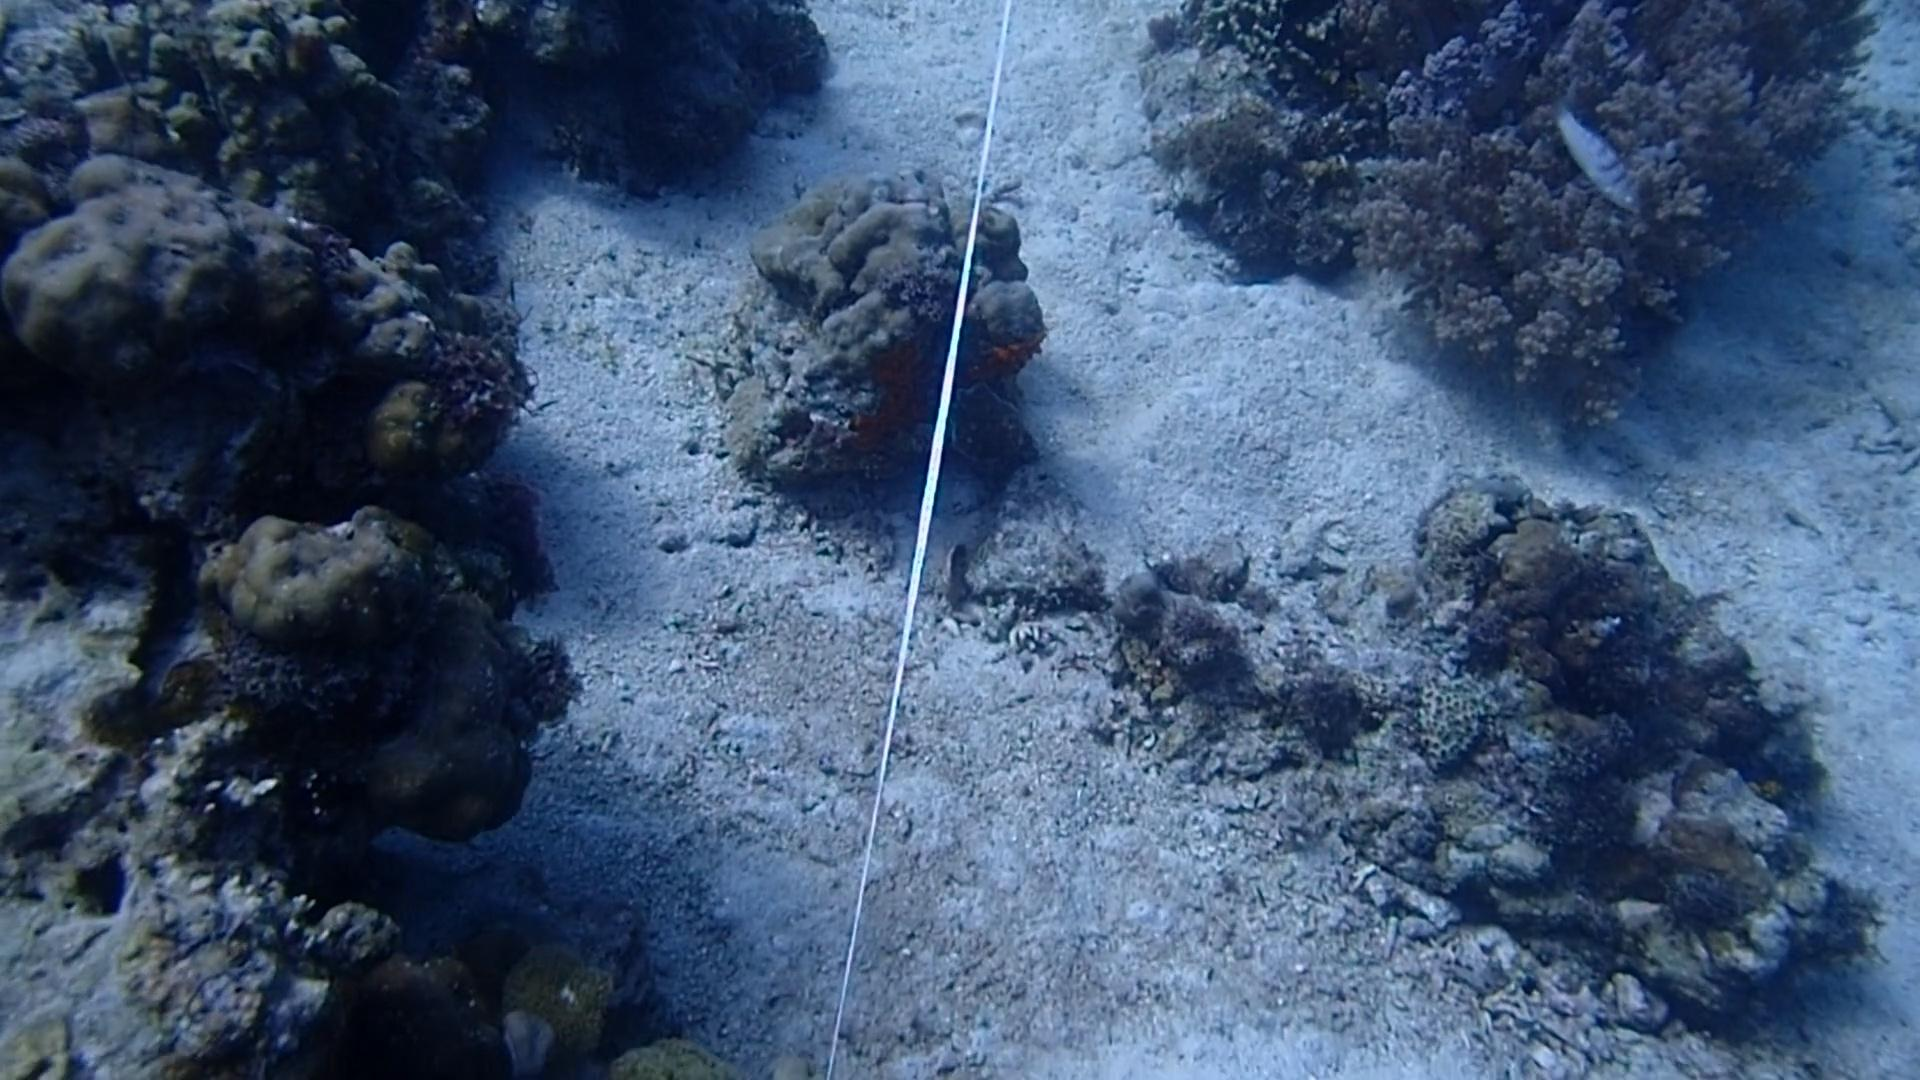Light Fish w Back Stripes: (1534, 99, 1650, 220)
